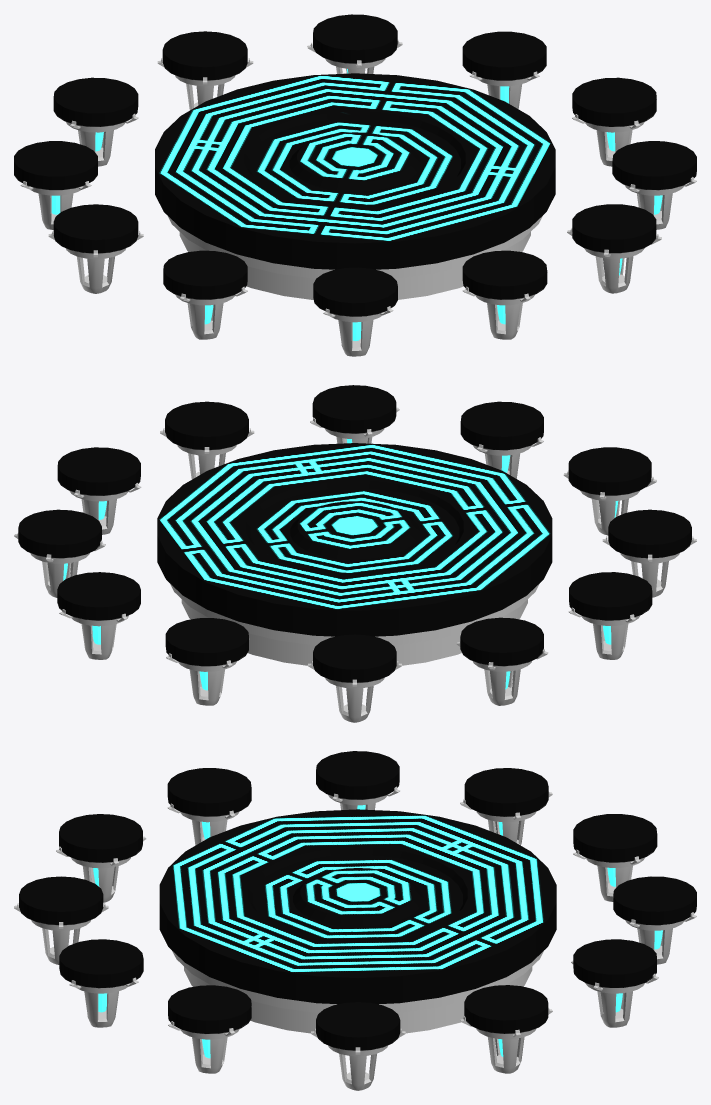
3 renders of one model, top to bottom at view 1: azimuth 30°, elevation 25°; view 2: azimuth 150°, elevation 25°; view 3: azimuth 270°, elevation 25°, orthographic.
Visible parts, largest first — view 1: Cylinder001, Stuhl010_Material #2_0, Stuhl009_Material #2_0, Stuhl007_Material #2_0, Stuhl006_Material #2_0, Stuhl008_Material #2_0, Stuhl004_Material #2_0, Stuhl011_Material #2_0, Stuhl_Material #2_0, Stuhl005_Material #2_0, Stuhl003_Material #2_0, Stuhl001_Material #2_0 (+1 smaller); view 2: Cylinder001, Stuhl005_Material #2_0, Stuhl006_Material #2_0, Stuhl002_Material #2_0, Stuhl003_Material #2_0, Stuhl004_Material #2_0, Stuhl008_Material #2_0, Stuhl001_Material #2_0, Stuhl_Material #2_0, Stuhl007_Material #2_0, Stuhl009_Material #2_0, Stuhl011_Material #2_0 (+1 smaller); view 3: Cylinder001, Stuhl001_Material #2_0, Stuhl002_Material #2_0, Stuhl011_Material #2_0, Stuhl_Material #2_0, Stuhl010_Material #2_0, Stuhl004_Material #2_0, Stuhl008_Material #2_0, Stuhl003_Material #2_0, Stuhl009_Material #2_0, Stuhl005_Material #2_0, Stuhl007_Material #2_0 (+1 smaller).
Part boxes in pixels (x1,y1,x2,y2): Cylinder001: [155, 73, 555, 299]; Stuhl010_Material #2_0: [567, 204, 661, 293]; Stuhl009_Material #2_0: [462, 250, 547, 339]; Stuhl007_Material #2_0: [163, 250, 247, 339]; Stuhl006_Material #2_0: [48, 204, 143, 293]; Stuhl008_Material #2_0: [313, 267, 397, 356]; Stuhl004_Material #2_0: [53, 77, 138, 166]; Stuhl011_Material #2_0: [612, 141, 696, 229]; Stuhl_Material #2_0: [572, 77, 656, 166]; Stuhl005_Material #2_0: [14, 141, 97, 229]; Stuhl003_Material #2_0: [157, 31, 253, 110]; Stuhl001_Material #2_0: [462, 31, 546, 109]; Cylinder001: [157, 443, 552, 665]; Stuhl005_Material #2_0: [456, 617, 548, 705]; Stuhl006_Material #2_0: [568, 572, 652, 659]; Stuhl002_Material #2_0: [57, 572, 140, 659]; Stuhl003_Material #2_0: [165, 618, 249, 705]; Stuhl004_Material #2_0: [308, 634, 401, 722]; Stuhl008_Material #2_0: [563, 447, 656, 535]; Stuhl001_Material #2_0: [14, 509, 105, 597]; Stuhl_Material #2_0: [57, 447, 141, 534]; Stuhl007_Material #2_0: [602, 509, 696, 597]; Stuhl009_Material #2_0: [460, 401, 543, 478]; Stuhl011_Material #2_0: [160, 401, 254, 479]; Cylinder001: [159, 809, 556, 1033]; Stuhl001_Material #2_0: [460, 985, 552, 1073]; Stuhl002_Material #2_0: [571, 939, 658, 1027]; Stuhl011_Material #2_0: [168, 985, 251, 1073]; Stuhl_Material #2_0: [311, 1002, 405, 1090]; Stuhl010_Material #2_0: [59, 939, 143, 1027]; Stuhl004_Material #2_0: [573, 814, 657, 901]; Stuhl008_Material #2_0: [56, 814, 146, 902]; Stuhl003_Material #2_0: [613, 876, 696, 964]; Stuhl009_Material #2_0: [14, 876, 108, 964]; Stuhl005_Material #2_0: [460, 768, 552, 845]; Stuhl007_Material #2_0: [167, 768, 251, 845].
Size of the model in its own units: 460 by 52.18 by 460.
1 material, 1 textured.
